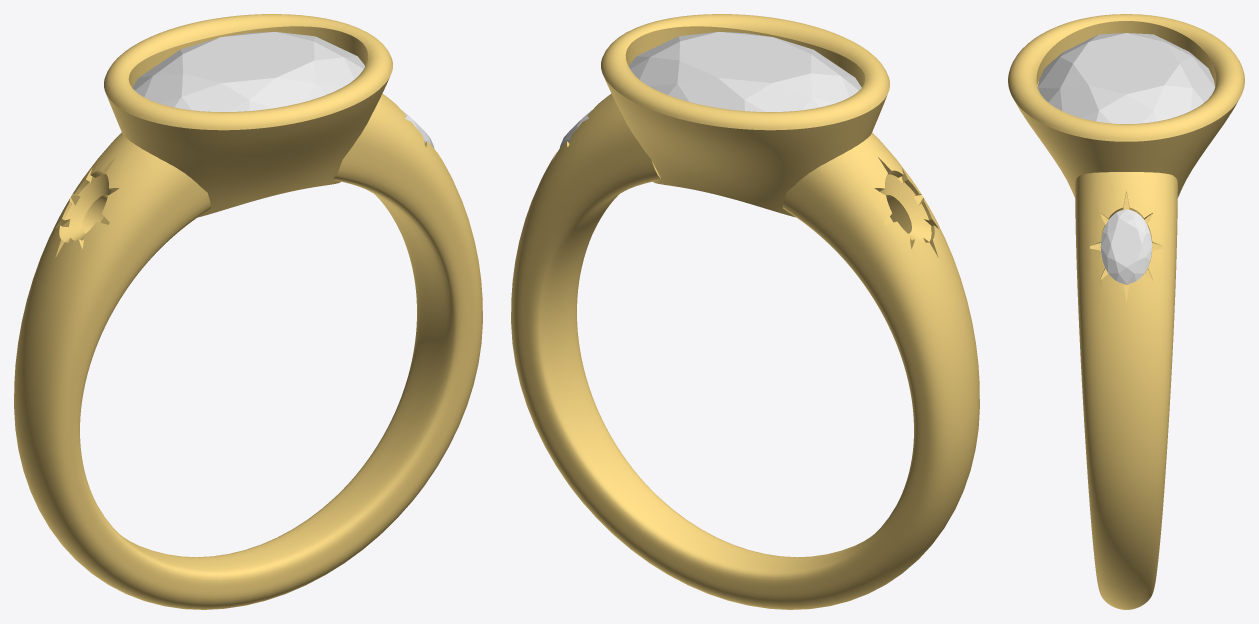
File: samV7ygEW_blender.glb
3 renders of one model, left to right at view 1: azimuth 30°, elevation 25°; view 2: azimuth 150°, elevation 25°; view 3: azimuth 270°, elevation 25°, orthographic. The views are drawn at different scales.
Parts seen in each view (by area): view 1: V7 Sam YG for 3d model, V7 Sam dia for 3d model; view 2: V7 Sam YG for 3d model, V7 Sam dia for 3d model; view 3: V7 Sam YG for 3d model, V7 Sam dia for 3d model, V7 Sam dia for 3d model.001.
Boxes of the visible parts, x1,y1,x2,y2 form: V7 Sam YG for 3d model: [14, 14, 482, 609]; V7 Sam dia for 3d model: [132, 32, 364, 111]; V7 Sam YG for 3d model: [511, 14, 979, 609]; V7 Sam dia for 3d model: [629, 32, 861, 111]; V7 Sam YG for 3d model: [1008, 14, 1244, 609]; V7 Sam dia for 3d model: [1037, 33, 1215, 123]; V7 Sam dia for 3d model.001: [1100, 209, 1152, 284].
Size of the model in its own units: 19.5 by 22.43 by 9.22.
